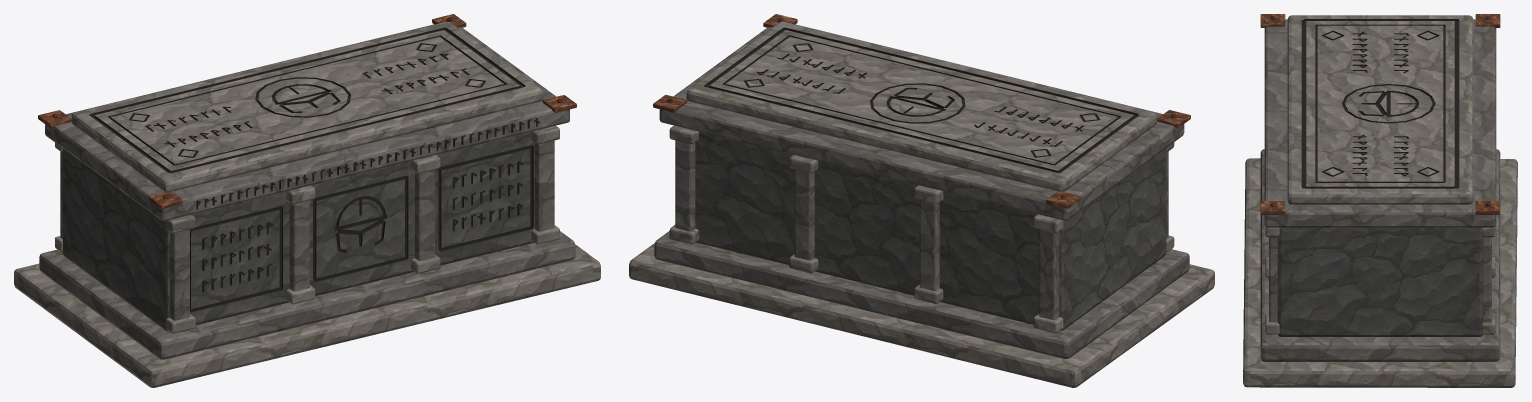
The model's file is th_hald_tomb.glb.
3 views of the same model, side by side, from view 1: azimuth 30°, elevation 25°; view 2: azimuth 150°, elevation 25°; view 3: azimuth 270°, elevation 25° (orthographic). The views are drawn at different scales.
Parts seen in each view (by area): view 1: model; view 2: model; view 3: model.
Part boxes in pixels (x1,y1,x2,y2): model: (14,14,600,387); model: (629,14,1214,387); model: (1243,14,1517,387).
Size of the model in its own units: 2.45 by 0.955 by 1.33.
6 materials, 5 textured.
